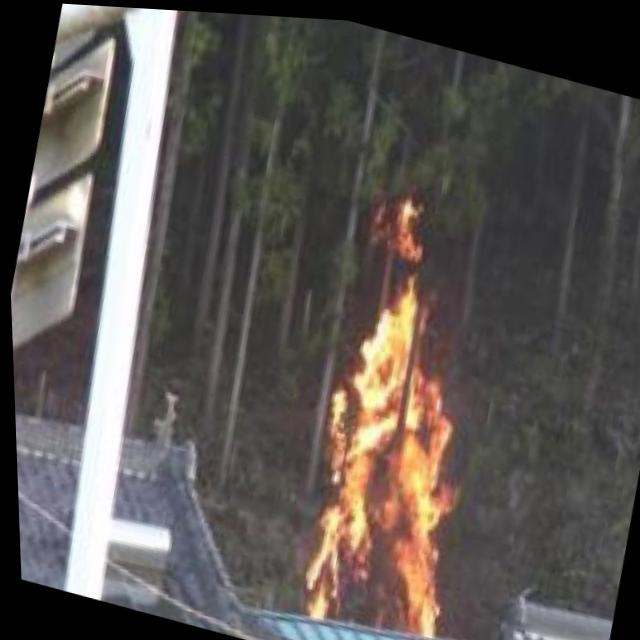Fire: (251, 172, 522, 640)
